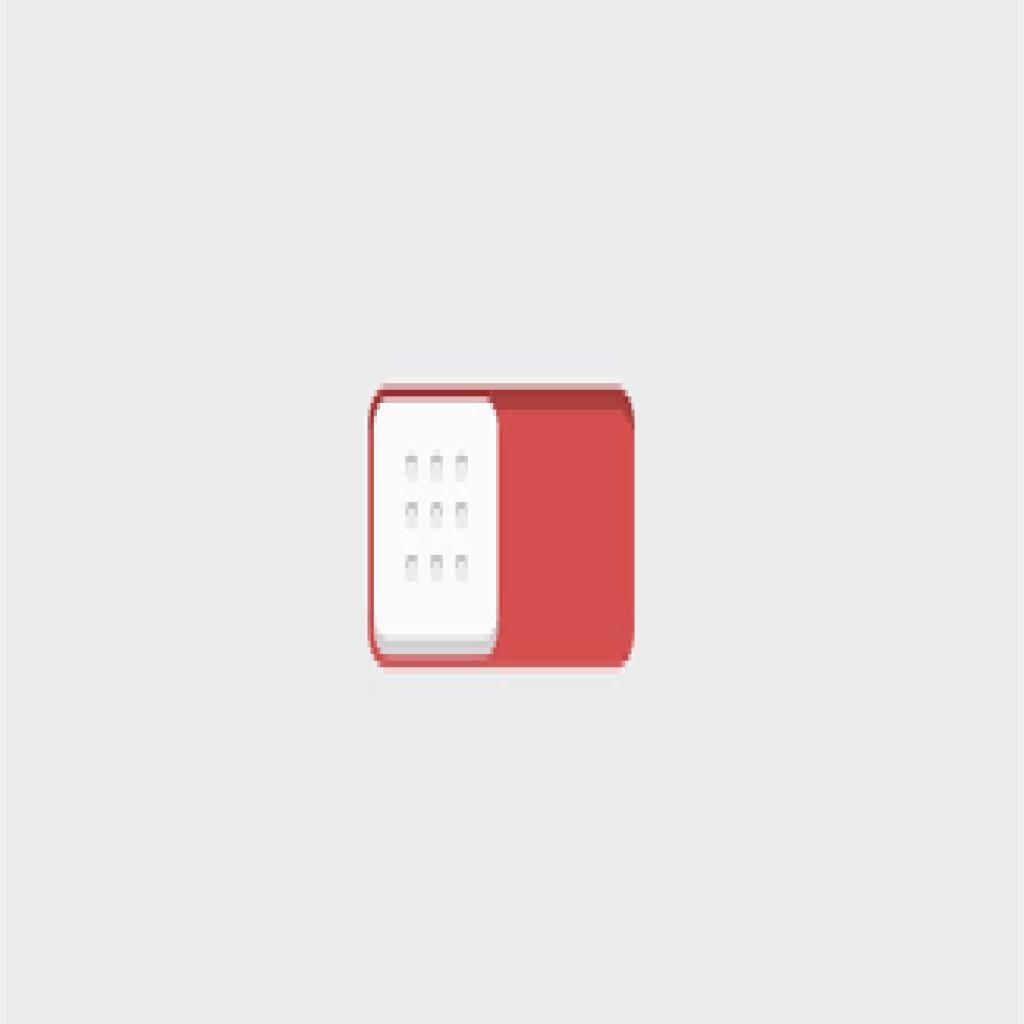switch: (369, 383, 636, 670)
